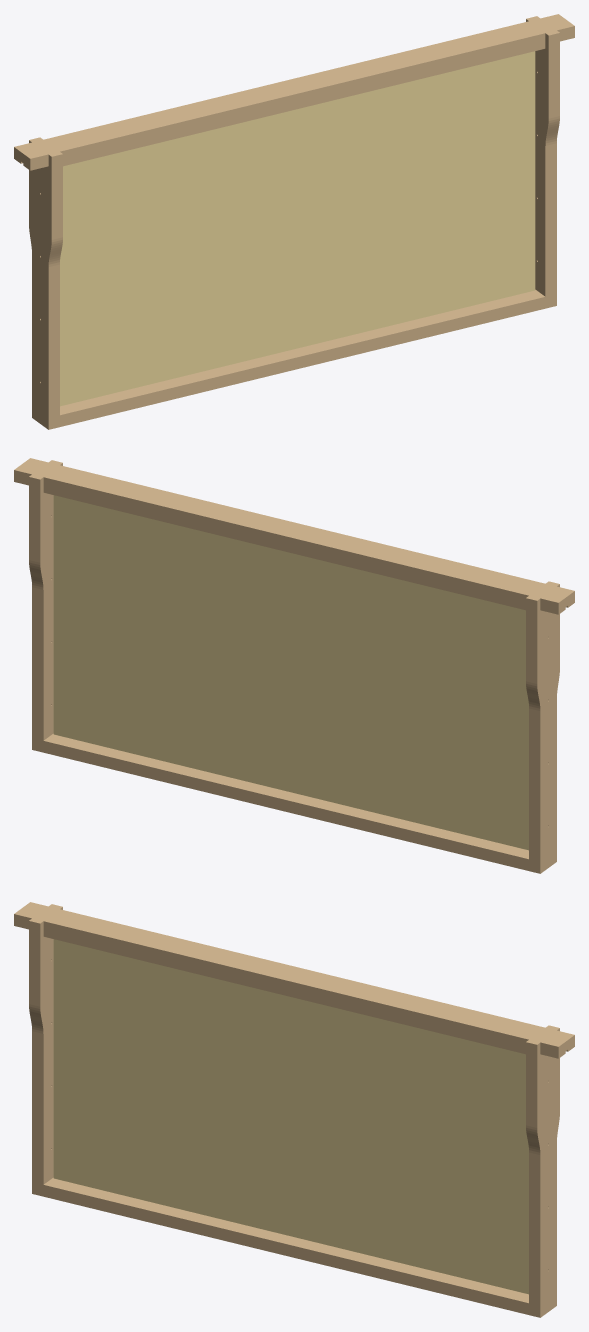
Rendered from langstroth.glb.
3 views of the same model, one above another, from view 1: azimuth 30°, elevation 25°; view 2: azimuth 150°, elevation 25°; view 3: azimuth 330°, elevation 25° (orthographic).
Parts seen in each view (by area): view 1: Mellanvagg, Overlist, Underlist, Sidolist_V, Sidolist_H; view 2: Mellanvagg, Overlist, Underlist, Sidolist_V, Sidolist_H; view 3: Mellanvagg, Overlist, Underlist, Sidolist_H, Sidolist_V.
Boxes of the visible parts, x1,y1,x2,y2 form: Mellanvagg: [60, 51, 535, 406]; Overlist: [14, 14, 574, 170]; Underlist: [32, 289, 556, 429]; Sidolist_V: [29, 137, 62, 425]; Sidolist_H: [526, 16, 559, 296]; Mellanvagg: [53, 495, 528, 850]; Overlist: [14, 458, 574, 614]; Underlist: [32, 733, 556, 873]; Sidolist_V: [526, 581, 559, 869]; Sidolist_H: [29, 460, 62, 740]; Mellanvagg: [53, 939, 528, 1294]; Overlist: [14, 902, 574, 1058]; Underlist: [32, 1177, 556, 1317]; Sidolist_H: [526, 1025, 559, 1313]; Sidolist_V: [29, 904, 62, 1184].
Bounding box in the file's own units: 480 × 232 × 35.
